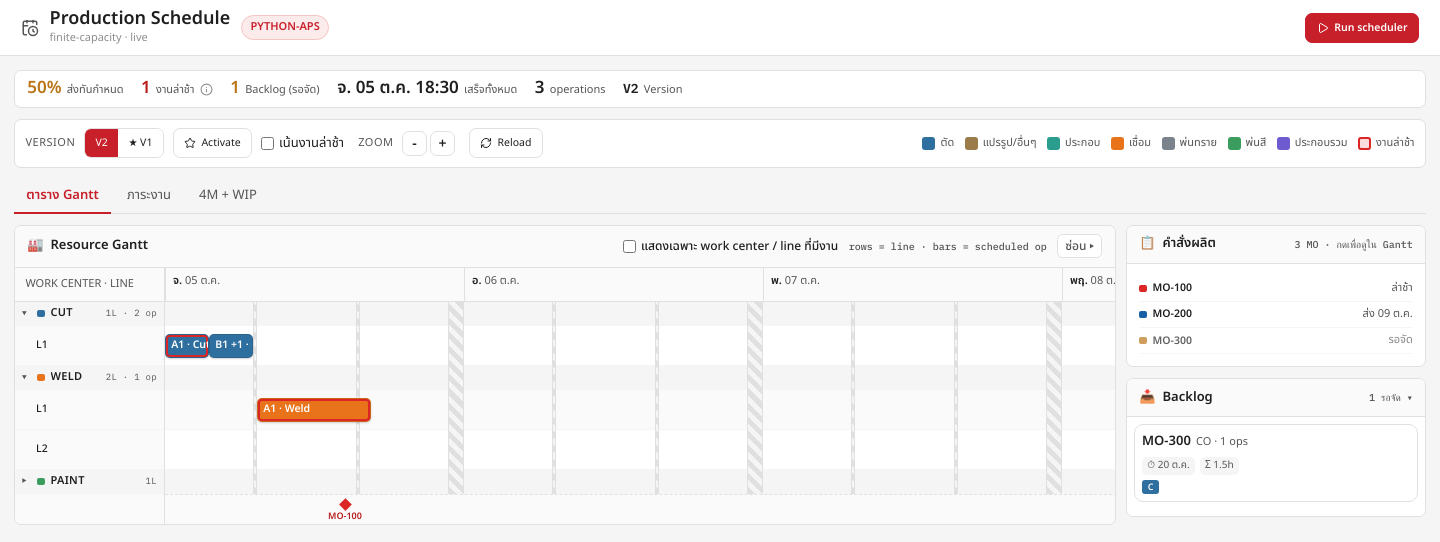
Test: ProductionSchedule › hides Activate while another version is loading (placeholder board)
Check: the button "Activate" is shown, box x1=173 y1=128 x2=252 y2=158
What coordinates should you click on to do the following:
click the button "★ V1"
I would click on:
 (141, 143)
Its box is x1=118 y1=129 x2=163 y2=157.
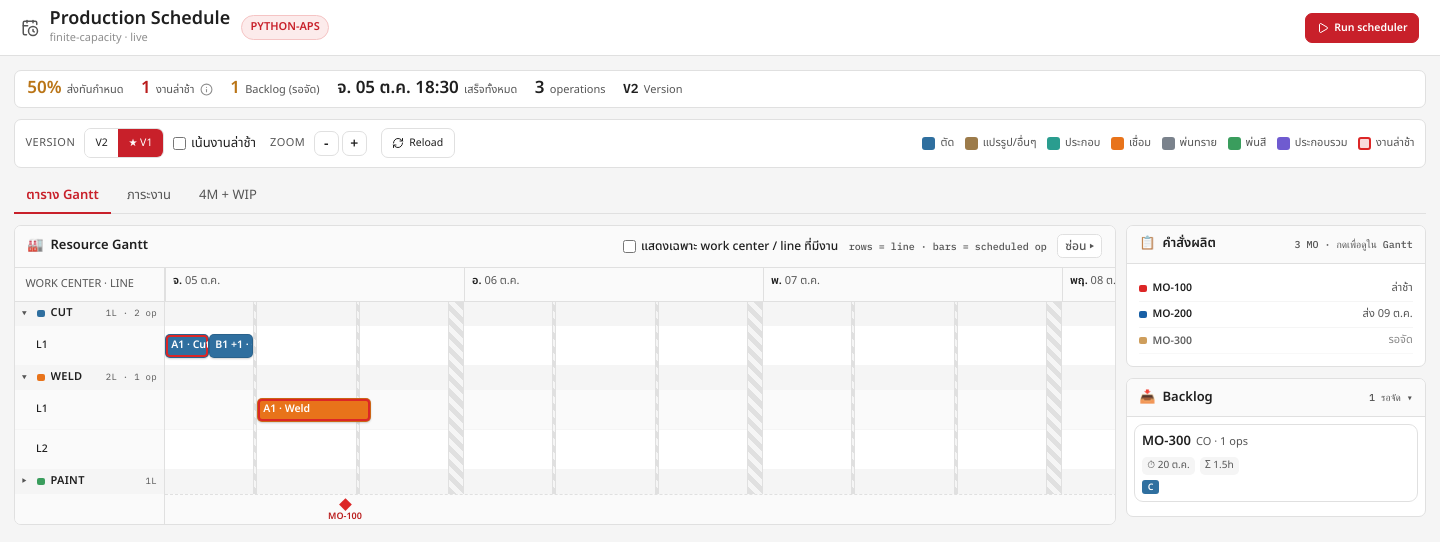
Check: the button "Activate" is gone
